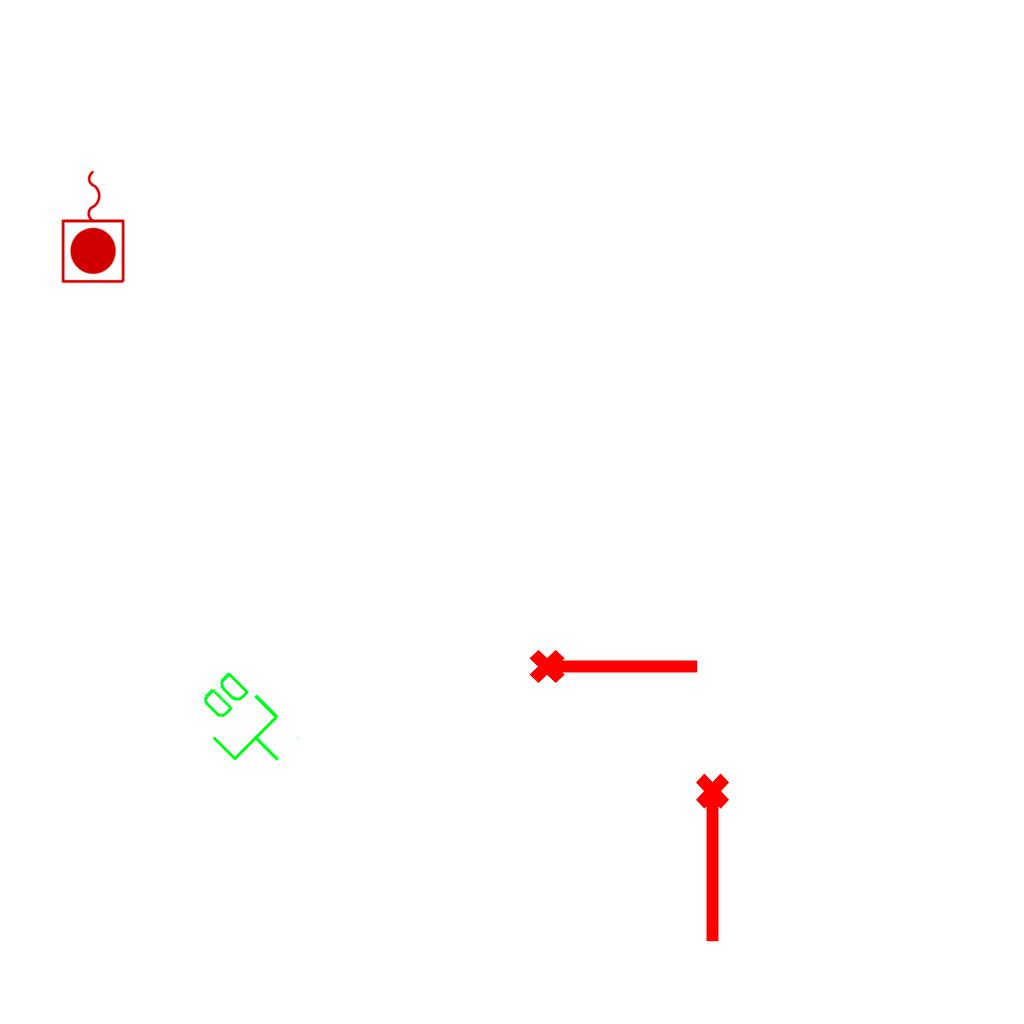ASR_Ansaugoeffnung: (692, 771, 738, 947), (527, 641, 703, 687)
Datenanschluss_zweifach: (182, 663, 305, 786)
Zugtaster: (58, 165, 130, 287)
